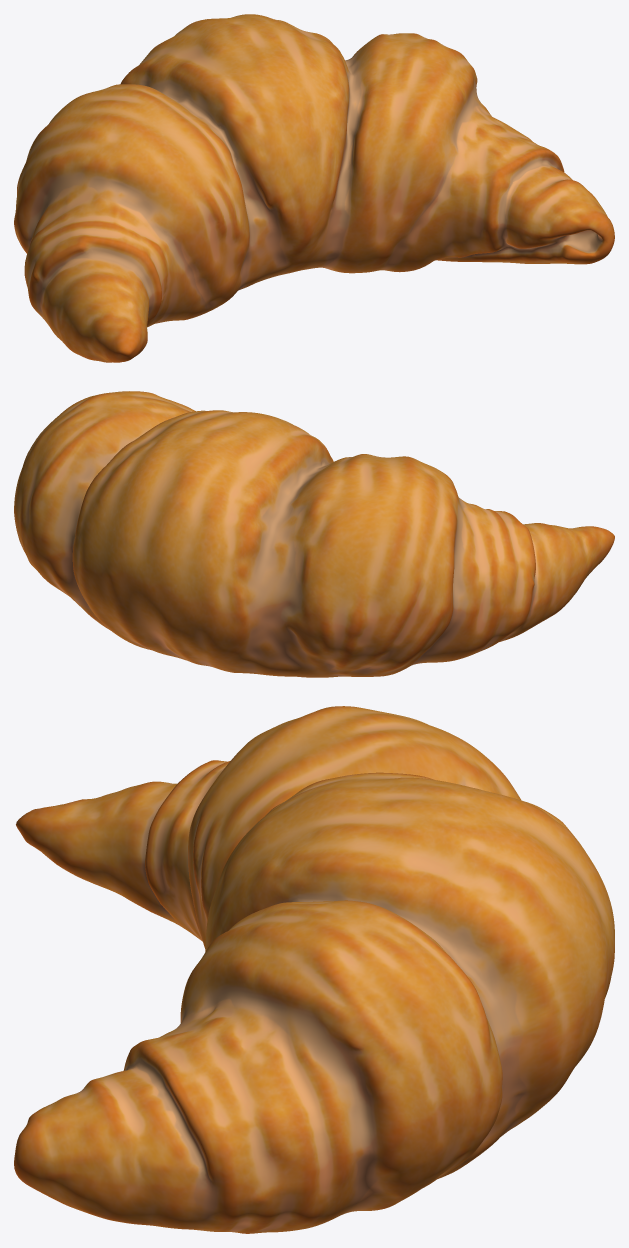
File: croissant.glb
3 views of the same model, one above another, from view 1: azimuth 30°, elevation 25°; view 2: azimuth 150°, elevation 25°; view 3: azimuth 270°, elevation 25° (orthographic). The views are drawn at different scales.
Visible parts, largest first — view 1: Croissant; view 2: Croissant; view 3: Croissant.
Boxes of the visible parts, x1,y1,x2,y2 form: Croissant: [14, 14, 614, 362]; Croissant: [14, 391, 614, 677]; Croissant: [14, 706, 614, 1233].
Bounding box in the file's own units: 503 × 207 × 359.
Materials: 1 (1 with a texture image).
